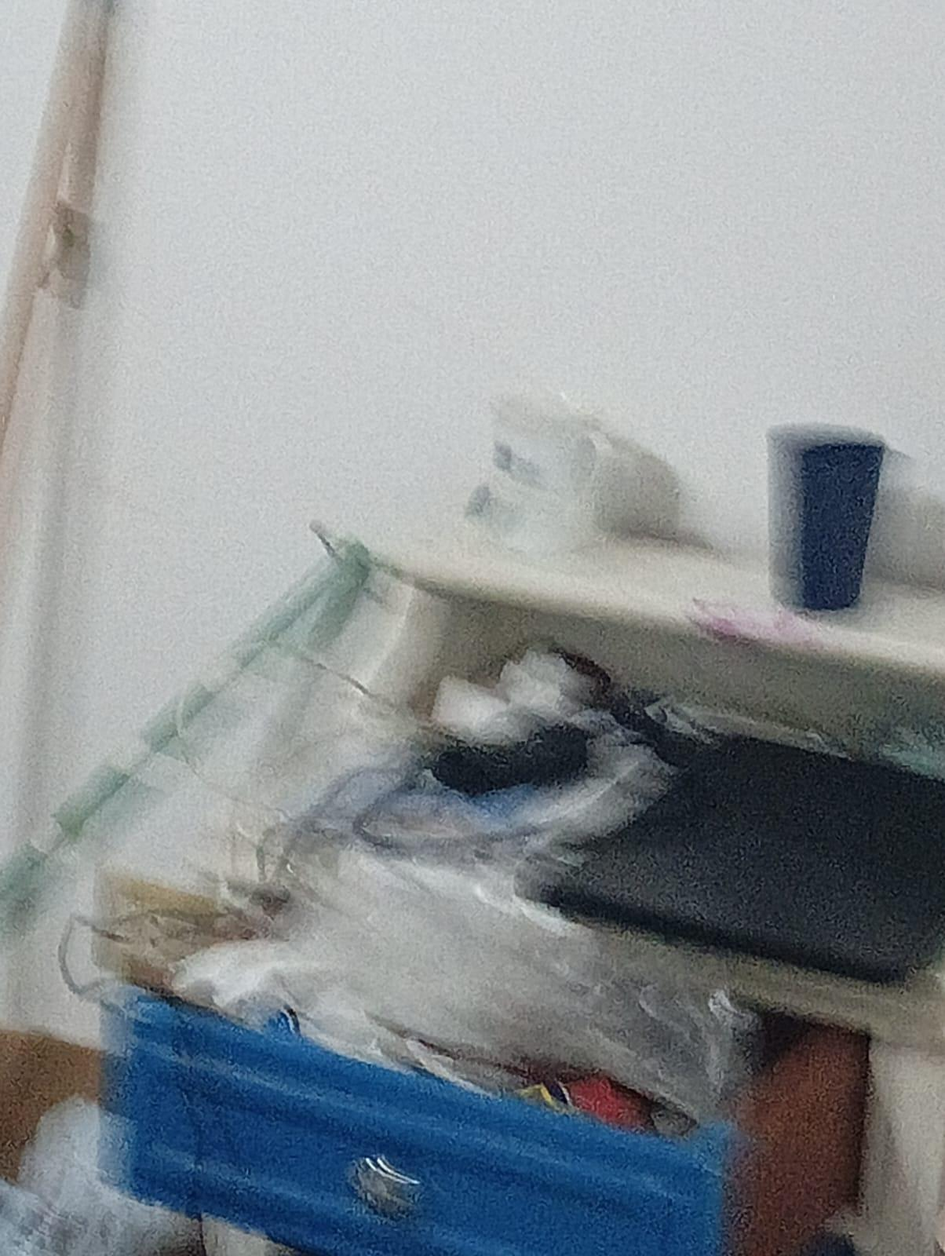cup: (468, 395, 641, 553), (768, 427, 885, 612)
